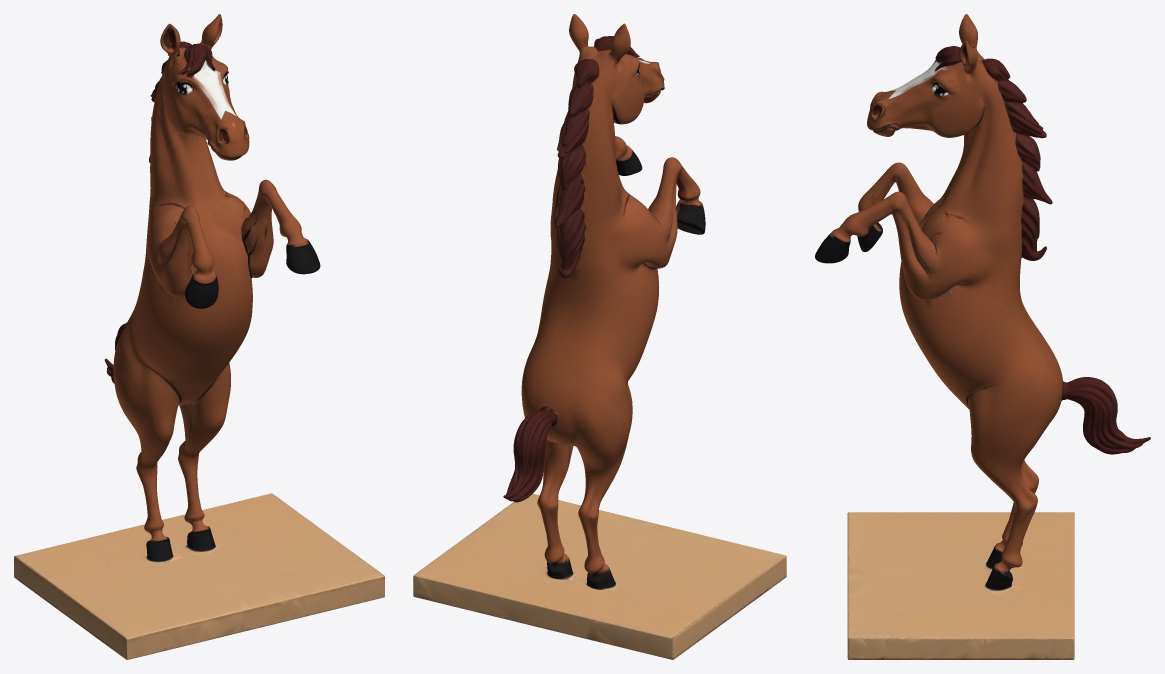
Rendered from Meshy_AI_A_flat_wooden_theater_0823154707_texture-optimized.glb.
The picture shows the model from 3 angles, left to right: view 1: azimuth 30°, elevation 25°; view 2: azimuth 150°, elevation 25°; view 3: azimuth 270°, elevation 25°; orthographic projection.
Visible parts, largest first — view 1: mesh_node; view 2: mesh_node; view 3: mesh_node.
Part boxes in pixels (x1,y1,x2,y2): mesh_node: (14, 14, 384, 659); mesh_node: (413, 14, 786, 659); mesh_node: (815, 14, 1150, 659).
Size of the model in its own units: 0.9045 by 1.9 by 1.02.
Materials: 1 (1 with a texture image).
